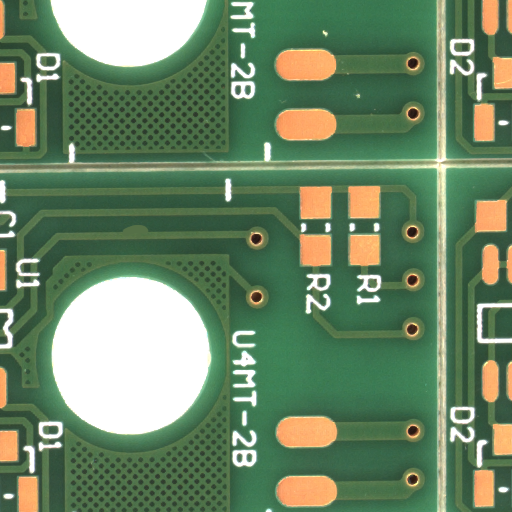Spur: (134, 229, 171, 243)
